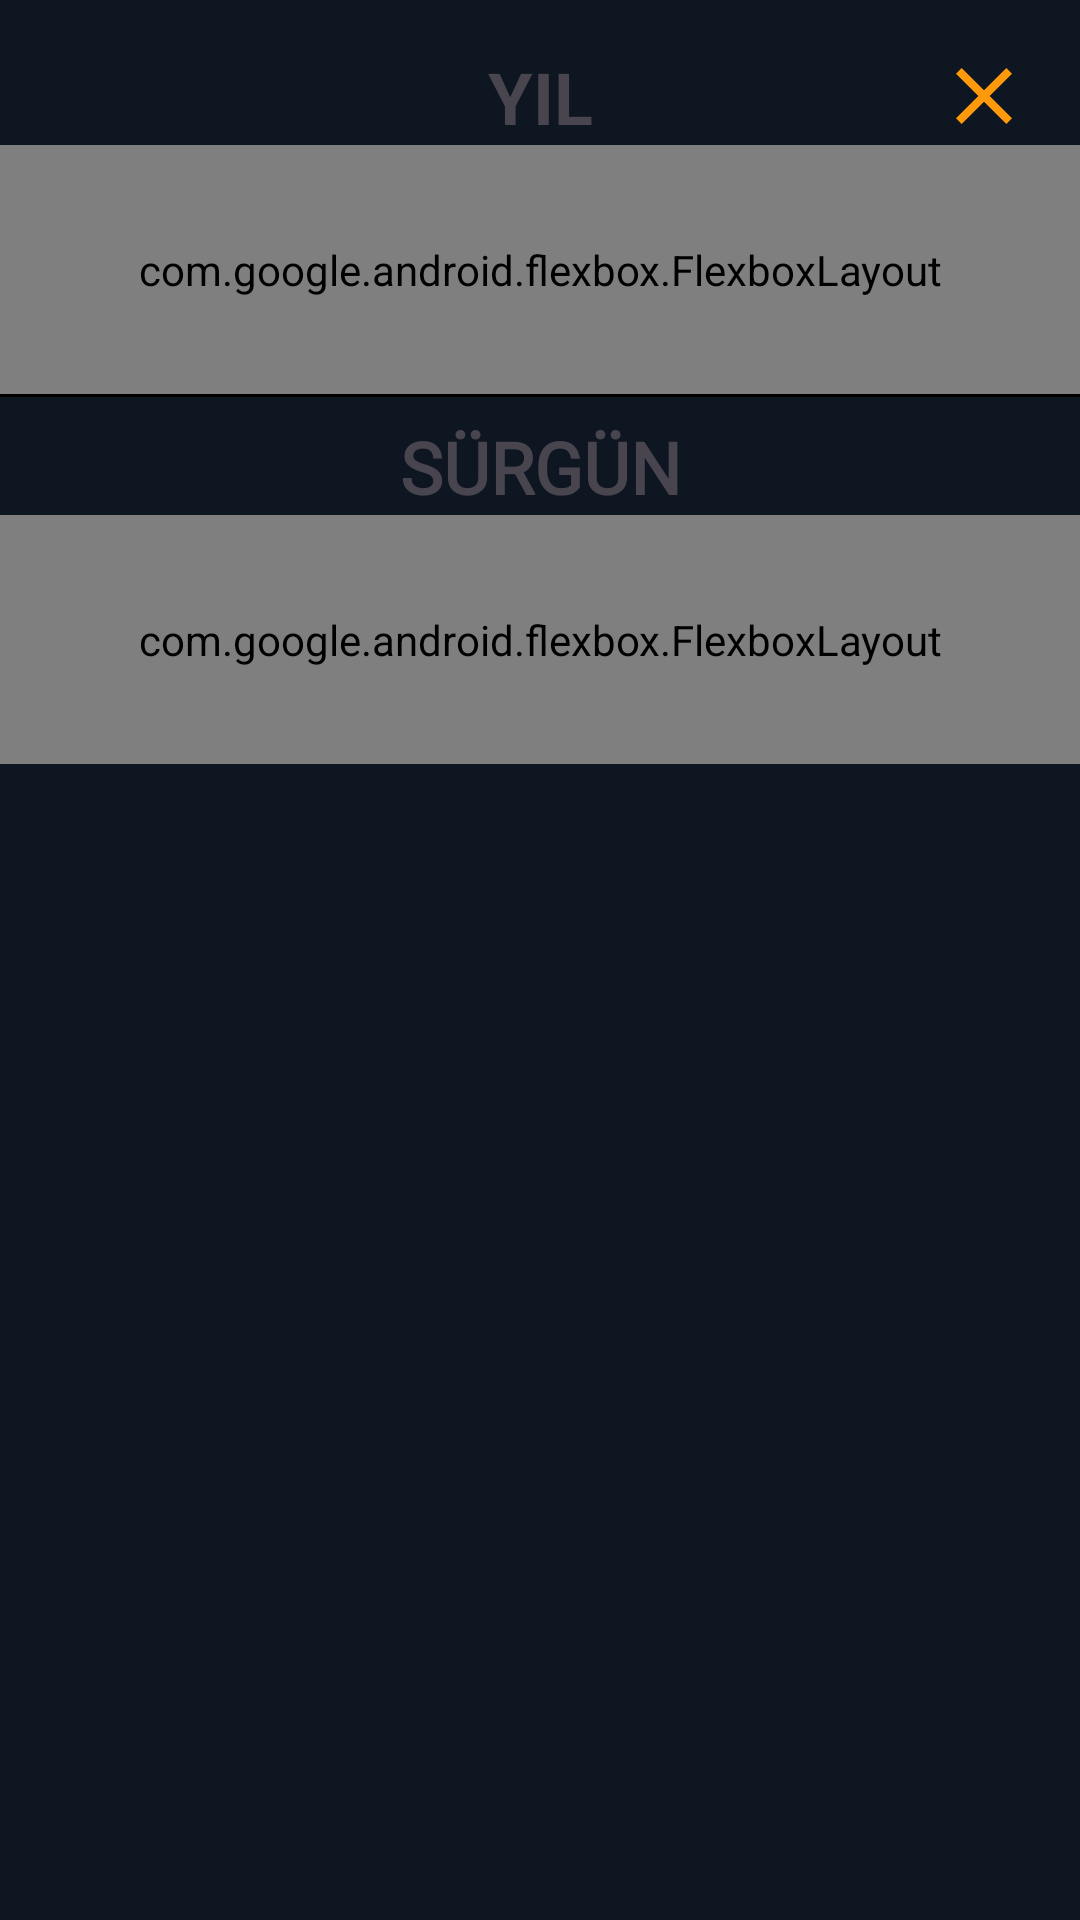

Named icons in this screenshot (1080×1920) and their bounding boxes, (x1,y1,x2,y2):
close: (956,68,1012,124)
